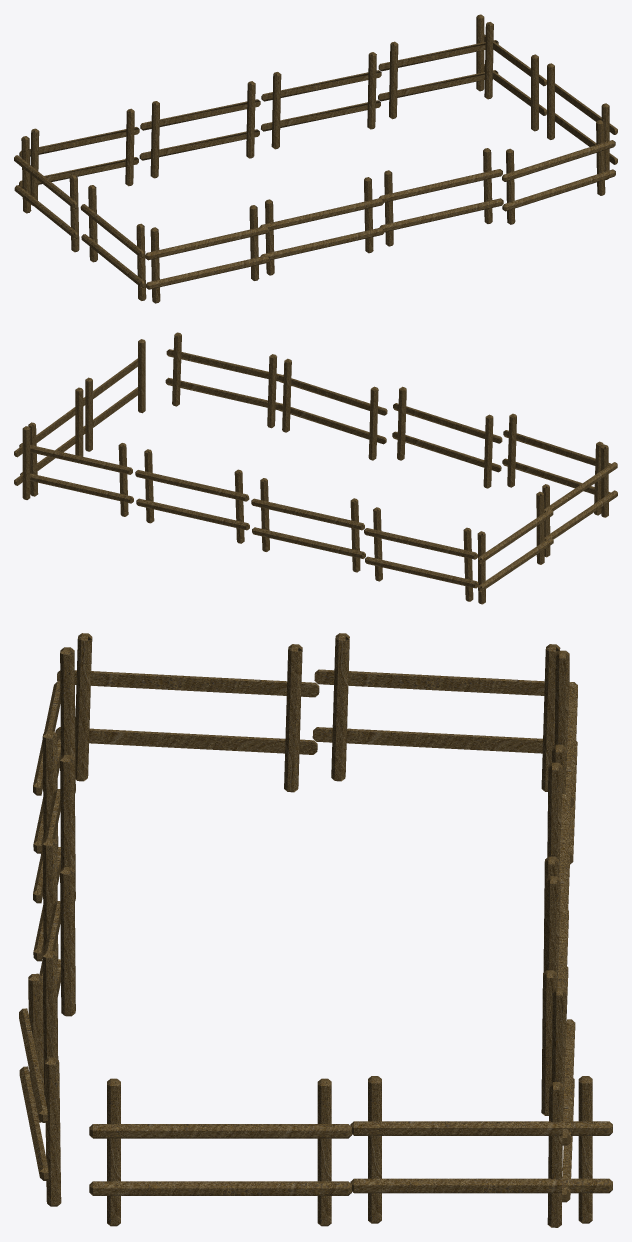
Rendered from woodFence.obj.
3 renders of one model, top to bottom at view 1: azimuth 30°, elevation 25°; view 2: azimuth 150°, elevation 25°; view 3: azimuth 270°, elevation 25°, orthographic. The views are drawn at different scales.
Visible parts, largest first — view 1: fenceFinal012, fenceFinal014, fenceFinal006, fenceFinal005, fenceFinal004, fenceFinal013, fenceFinal015, fenceFinal007, fenceFinal011, fenceFinal010, fenceFinal001, fenceFinal; view 2: fenceFinal005, fenceFinal006, fenceFinal007, fenceFinal015, fenceFinal014, fenceFinal013, fenceFinal004, fenceFinal012, fenceFinal010, fenceFinal001, fenceFinal, fenceFinal011; view 3: fenceFinal001, fenceFinal, fenceFinal011, fenceFinal010, fenceFinal015, fenceFinal004, fenceFinal014, fenceFinal013, fenceFinal012, fenceFinal005, fenceFinal007, fenceFinal006.
Part boxes in pixels (x1,y1,x2,y2): fenceFinal012: [145, 205, 269, 303]; fenceFinal014: [379, 148, 503, 246]; fenceFinal006: [139, 81, 260, 178]; fenceFinal005: [261, 52, 381, 149]; fenceFinal004: [378, 22, 498, 119]; fenceFinal013: [260, 177, 384, 275]; fenceFinal015: [502, 120, 615, 224]; fenceFinal007: [19, 108, 139, 205]; fenceFinal011: [80, 185, 146, 300]; fenceFinal010: [14, 136, 79, 252]; fenceFinal001: [476, 14, 546, 131]; fenceFinal: [547, 63, 617, 180]; fenceFinal005: [135, 449, 249, 543]; fenceFinal006: [251, 478, 365, 572]; fenceFinal007: [364, 507, 478, 601]; fenceFinal015: [165, 332, 283, 428]; fenceFinal014: [277, 358, 387, 460]; fenceFinal013: [392, 386, 502, 488]; fenceFinal004: [19, 422, 133, 516]; fenceFinal012: [502, 413, 610, 515]; fenceFinal010: [477, 491, 553, 604]; fenceFinal001: [14, 387, 83, 499]; fenceFinal: [83, 339, 145, 451]; fenceFinal011: [542, 444, 617, 557]; fenceFinal001: [350, 1076, 612, 1223]; fenceFinal: [89, 1078, 351, 1226]; fenceFinal011: [55, 633, 319, 792]; fenceFinal010: [312, 633, 569, 791]; fenceFinal015: [19, 973, 61, 1206]; fenceFinal004: [547, 988, 575, 1227]; fenceFinal014: [39, 867, 75, 1097]; fenceFinal013: [33, 755, 75, 961]; fenceFinal012: [33, 647, 75, 853]; fenceFinal005: [541, 876, 568, 1115]; fenceFinal007: [552, 650, 577, 864]; fenceFinal006: [543, 762, 570, 972].
Bounding box in the file's own units: 15.95 × 2.42 × 8.69.
Materials: 1 (1 with a texture image).
